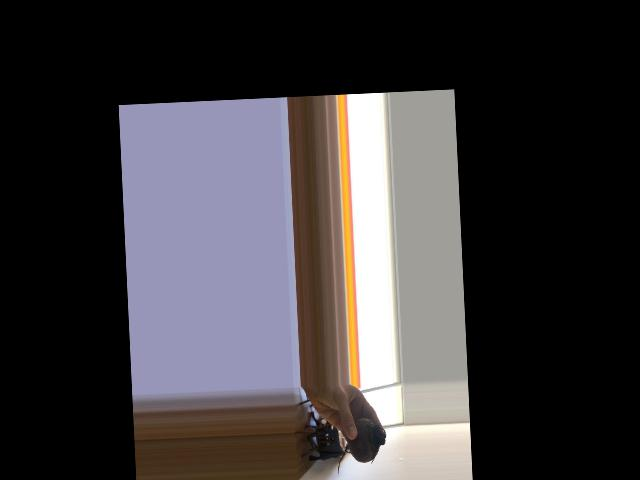beet: (335, 417, 387, 476)
